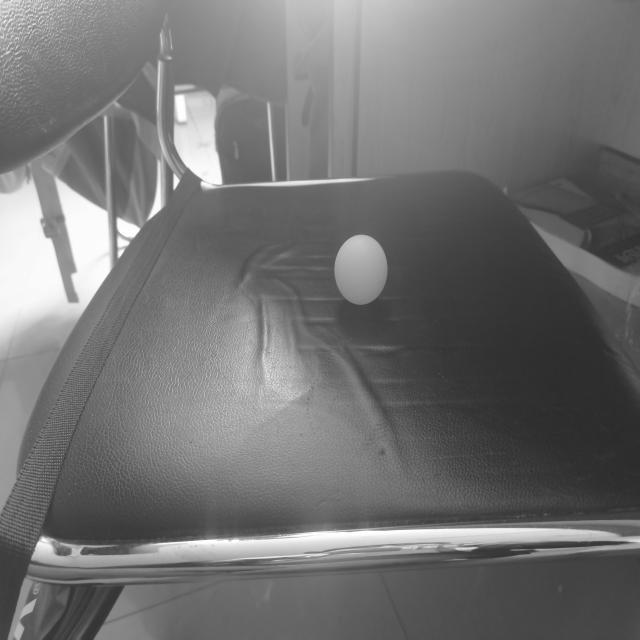ping-pong-ball: (334, 234, 388, 306)
